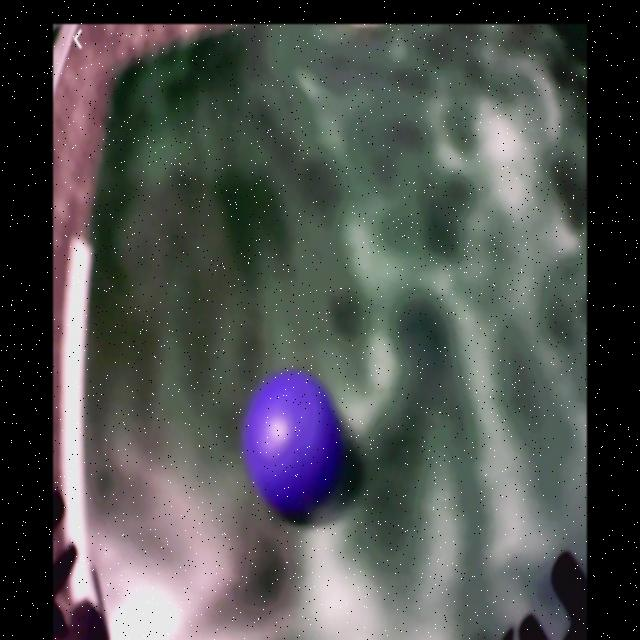ball: (245, 372, 345, 516)
